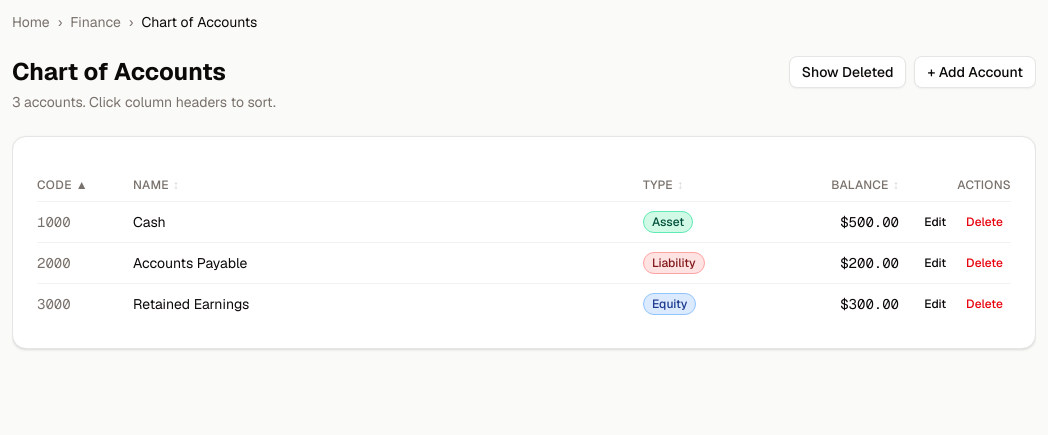
Test: ChartOfAccountsPage › shows validation error for NaN account code
Expected: the link "Cash" is shown, [133,213,166,231]
Click the button "Edit" in the row of "1000": point(935, 222) [916,210,954,234]
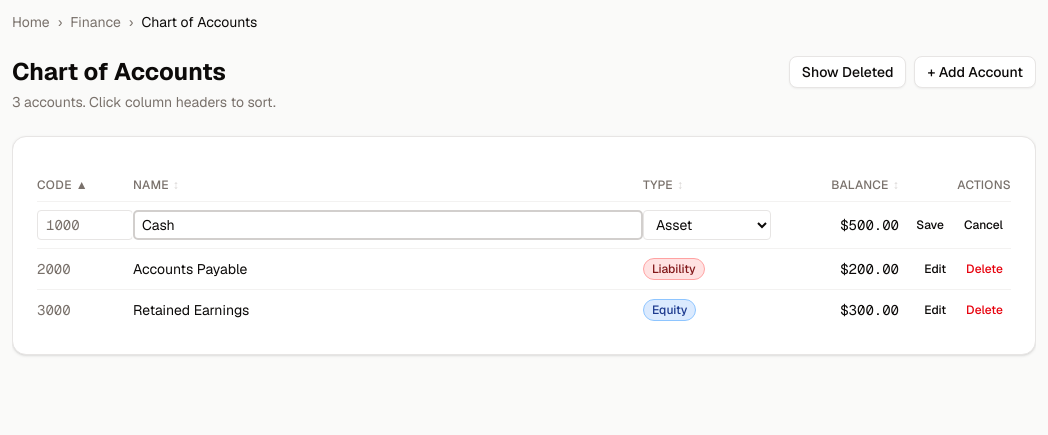
Replace the text in the number field showing "1000" with "abc": point(85, 225) [37,210,133,240]
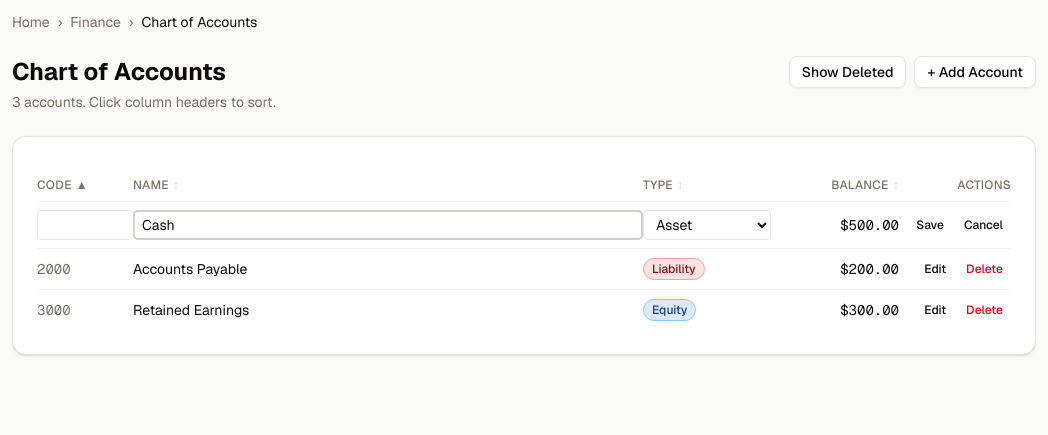
Click the button "Save": point(930, 225) [908,213,952,237]
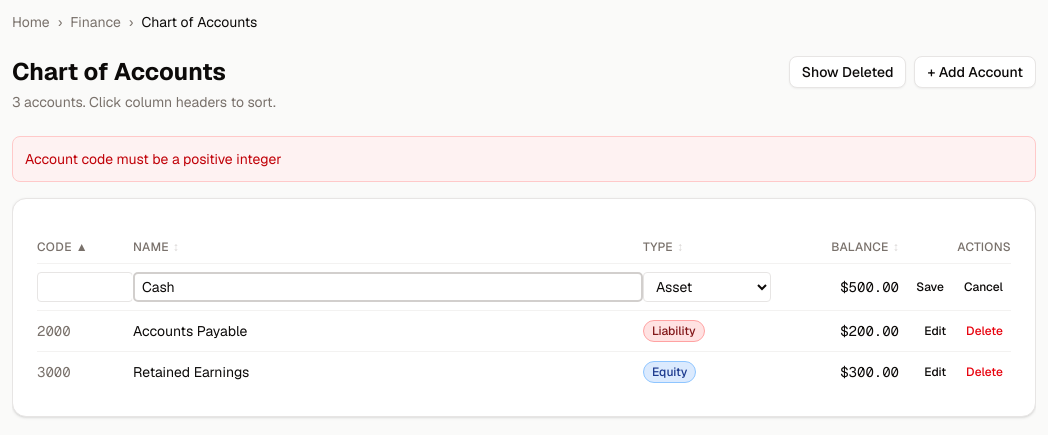
Result: the text "Account code must be a positive integer" is shown at [12,136,1036,182]
